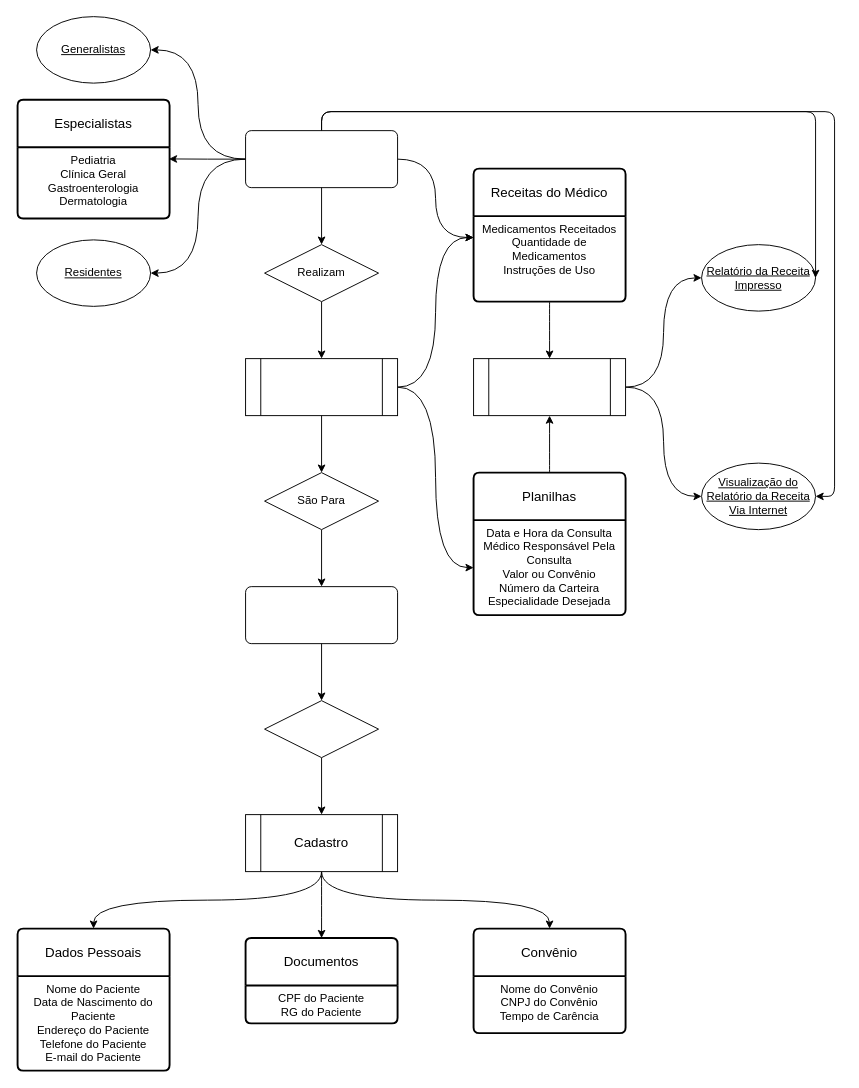
Some shapes in this 859 by 1088 pixel diagram are drawn without their labels. The shapes that lost their labels are listed below. From the top down, each one's centre as x and y in pixels, then its label:
At pixel 321 159: "🥼 Médicos 🥼".
At pixel 321 387: "🔎 Consultas 🔎".
At pixel 549 387: "Sistema".
At pixel 321 615: "🩹 Pacientes 🩹".
At pixel 321 729: "Necessitam".
